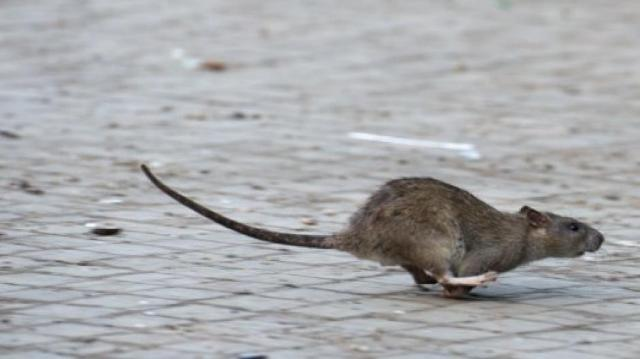rat: (126, 142, 618, 304)
